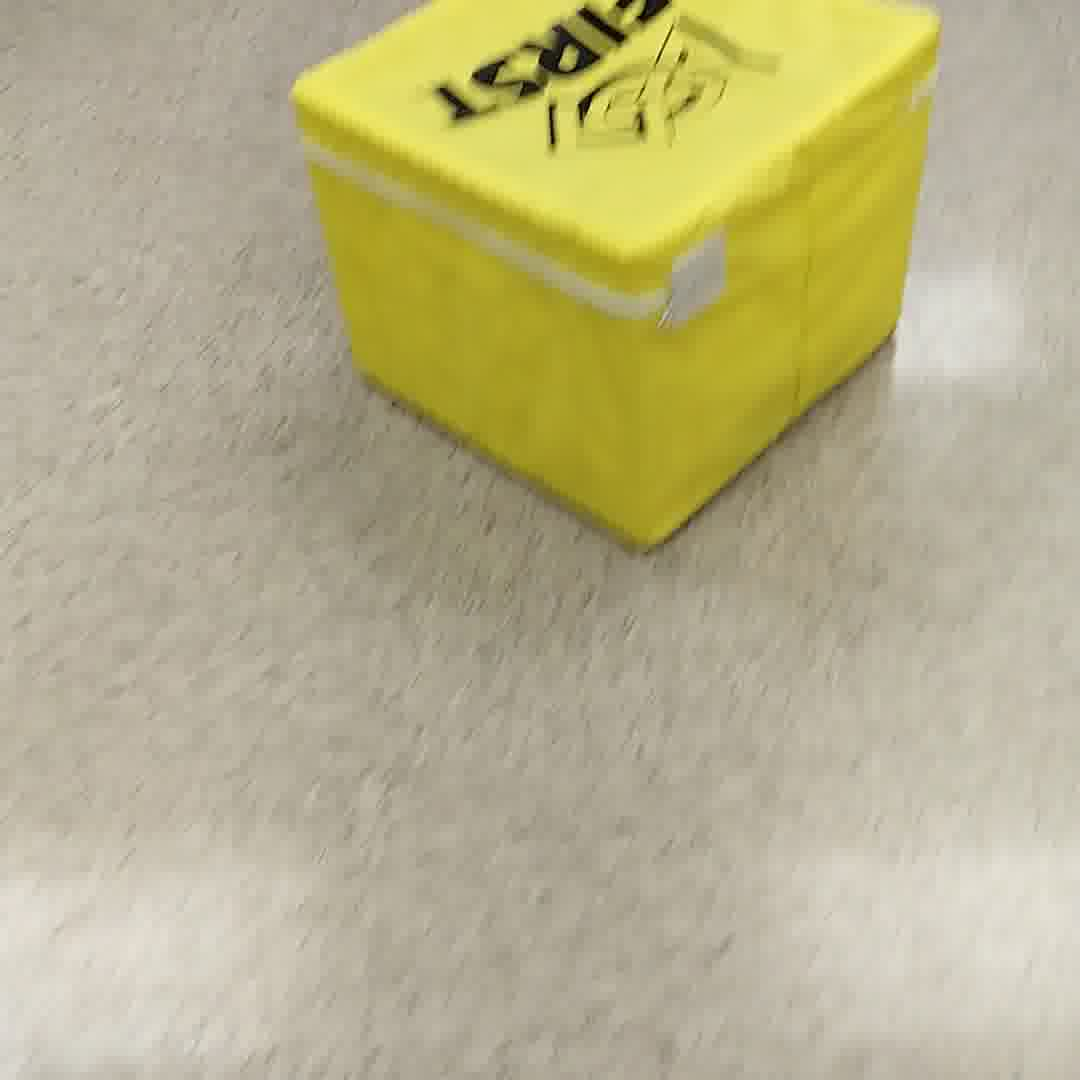box: (284, 7, 940, 559)
